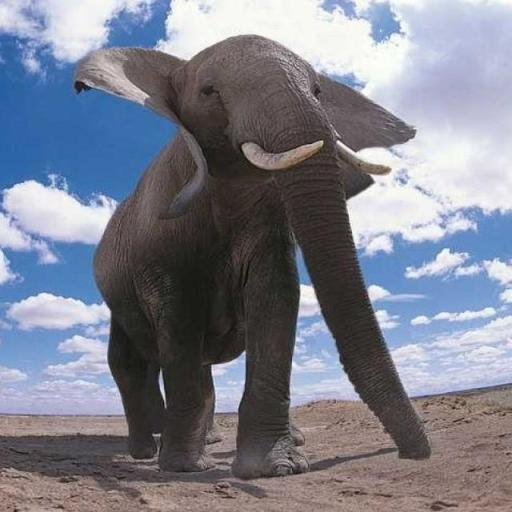Elephant: (72, 32, 432, 479)
